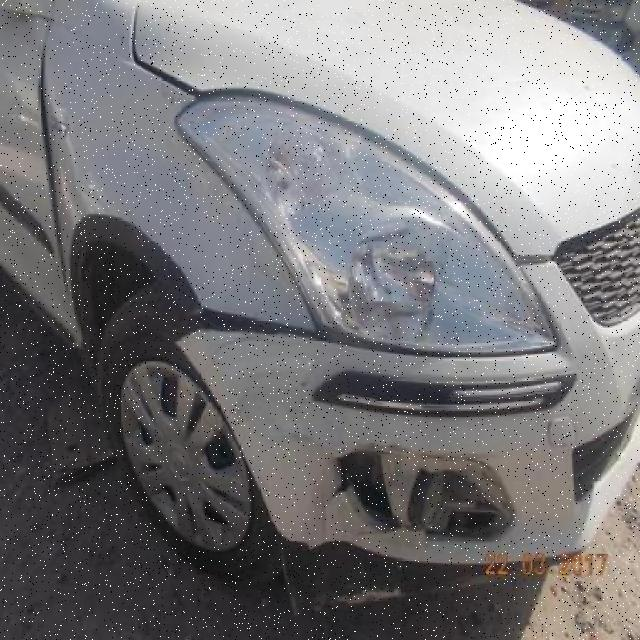damage: (180, 300, 588, 560), (281, 429, 528, 548), (35, 30, 72, 311)
